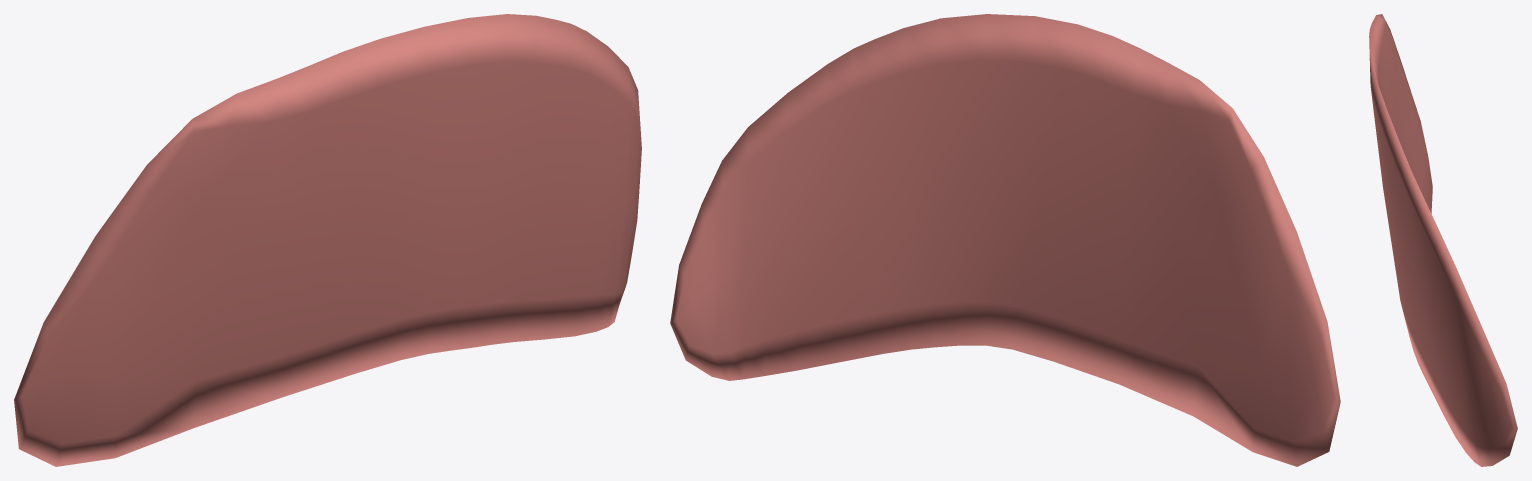
The picture shows the model from 3 angles, left to right: view 1: azimuth 30°, elevation 25°; view 2: azimuth 150°, elevation 25°; view 3: azimuth 270°, elevation 25°; orthographic projection. The views are drawn at different scales.
Visible parts, largest first — view 1: ZA_175fa942318d02e4; view 2: ZA_175fa942318d02e4; view 3: ZA_175fa942318d02e4.
Part boxes in pixels (x1,y1,x2,y2): ZA_175fa942318d02e4: (14,14,641,466); ZA_175fa942318d02e4: (670,14,1340,466); ZA_175fa942318d02e4: (1369,14,1517,466).
Size of the model in its own units: 0.0233 by 0.0136 by 0.00595.
